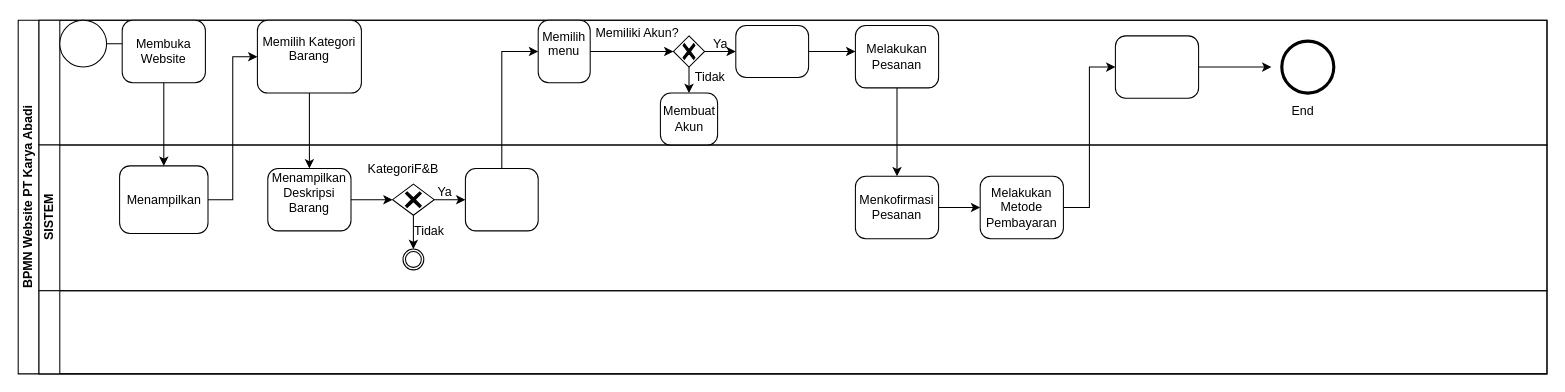
This 1565x392 diagram has some shape labels left out. The shapes that lost their labels are listed below. From the top down, each one's box as (x1, y1, x2, y2) in pixels, then its label:
(59, 19, 107, 67): Start
(735, 24, 809, 77): Memasukan Keranjang
(38, 19, 1547, 145): USER
(1114, 35, 1199, 98): Memporses Pesanan
(464, 167, 538, 231): Menampilkan Menu Barang
